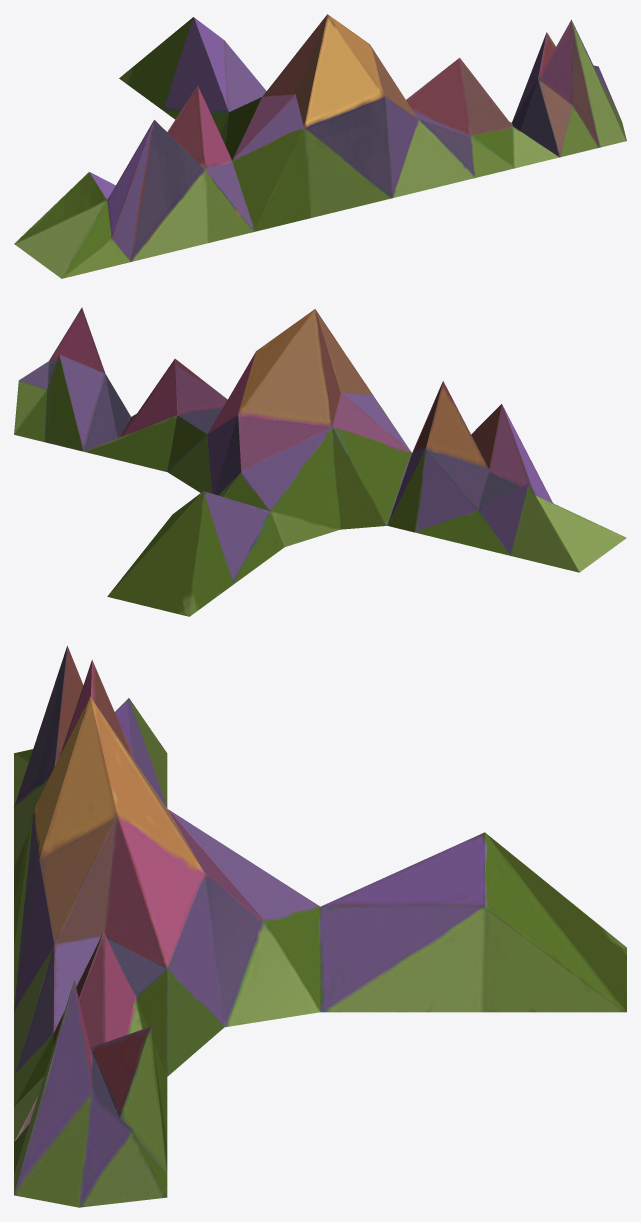
The model's file is wall_t_cap_deco1.fbx.
3 views of the same model, one above another, from view 1: azimuth 30°, elevation 25°; view 2: azimuth 150°, elevation 25°; view 3: azimuth 270°, elevation 25° (orthographic). The views are drawn at different scales.
Parts seen in each view (by area): view 1: wall_t_cap_deco1; view 2: wall_t_cap_deco1; view 3: wall_t_cap_deco1.
Part boxes in pixels (box(x1,y1,x2,y2)): wall_t_cap_deco1: box(14, 14, 626, 278); wall_t_cap_deco1: box(14, 307, 626, 616); wall_t_cap_deco1: box(14, 646, 626, 1207).
Bounding box in the file's own units: 0.0702 × 0.0204 × 0.04.
